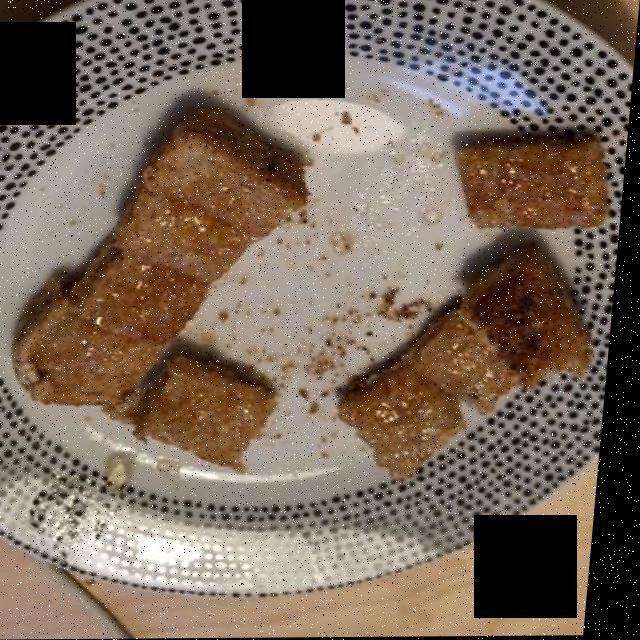bread-wholemeal-toast: (0, 48, 611, 517)
